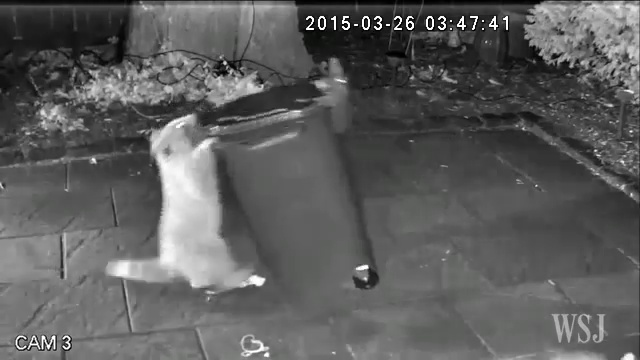raccoon: (104, 115, 272, 302)
